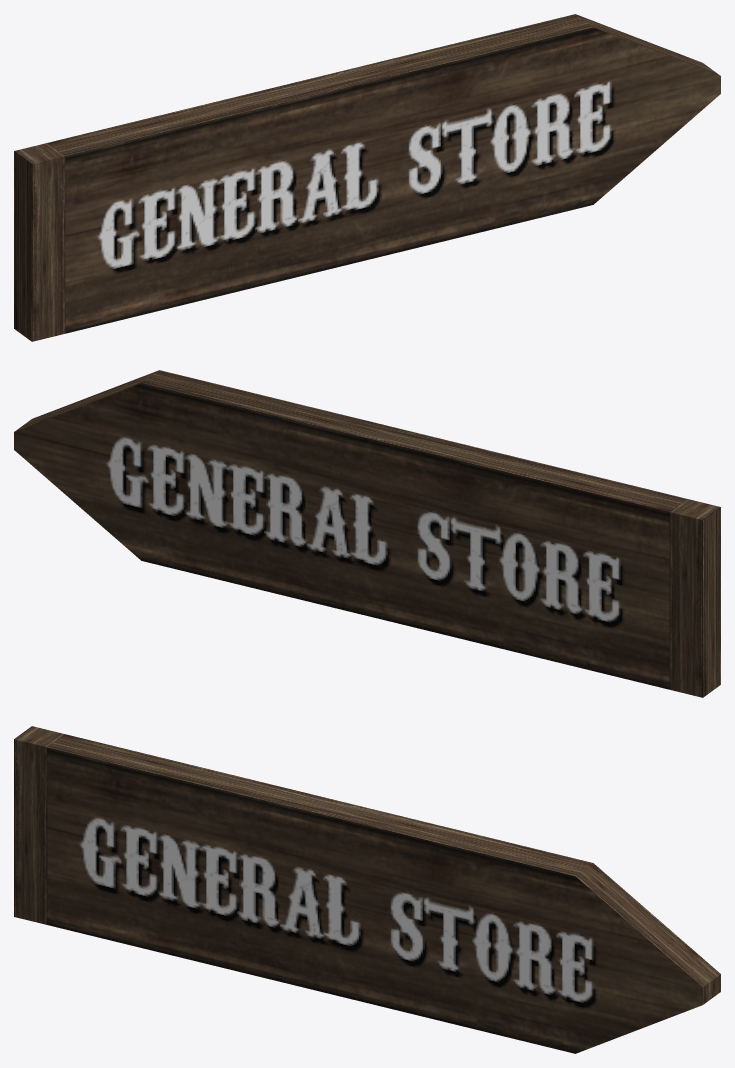
File: wooden-sign-12.fbx
3 renders of one model, top to bottom at view 1: azimuth 30°, elevation 25°; view 2: azimuth 150°, elevation 25°; view 3: azimuth 330°, elevation 25°, orthographic.
Parts seen in each view (by area): view 1: Cube.261; view 2: Cube.261; view 3: Cube.261.
Boxes of the visible parts, x1,y1,x2,y2 form: Cube.261: (14, 14, 720, 341); Cube.261: (14, 370, 720, 697); Cube.261: (14, 726, 720, 1053).
Bounding box in the file's own units: 1.21 × 0.2988 × 0.0549.
